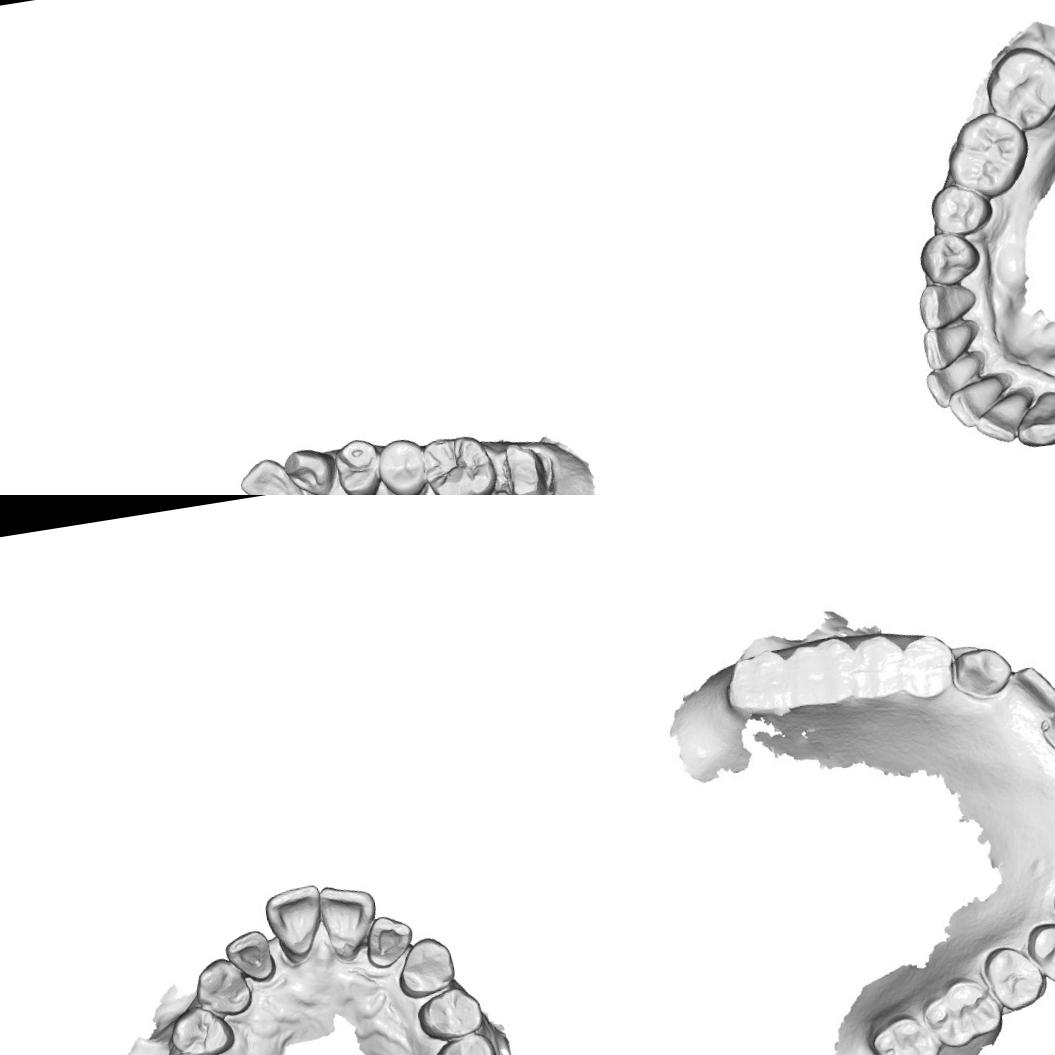canine: (390, 934, 458, 1002), (190, 954, 255, 1021), (951, 642, 1014, 702), (917, 276, 982, 332), (278, 441, 338, 495), (1013, 389, 1055, 454)
crown: (494, 434, 560, 495)
incisor: (315, 878, 384, 964), (262, 883, 328, 961), (924, 354, 992, 408), (970, 387, 1034, 442), (234, 450, 309, 495), (362, 912, 418, 970), (948, 373, 1010, 425), (917, 317, 984, 364), (222, 928, 276, 986), (1011, 658, 1055, 720)
molar: (938, 108, 1035, 205), (978, 39, 1055, 138), (922, 972, 1000, 1051), (786, 634, 862, 708), (417, 429, 500, 495), (724, 652, 794, 718), (869, 1010, 939, 1055)
premolar: (926, 177, 996, 244), (916, 226, 989, 290), (414, 984, 486, 1044), (166, 1000, 237, 1055), (328, 434, 391, 495), (984, 944, 1041, 1009), (374, 433, 433, 495), (854, 632, 906, 700), (899, 634, 951, 698), (1024, 921, 1055, 988), (427, 1029, 500, 1055)
